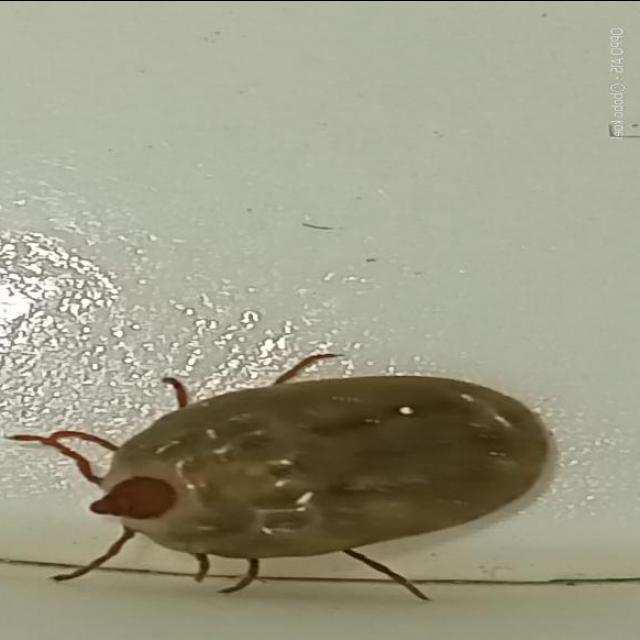Rhipicephalus Sanguineus-F-Fed: (11, 352, 561, 603)
